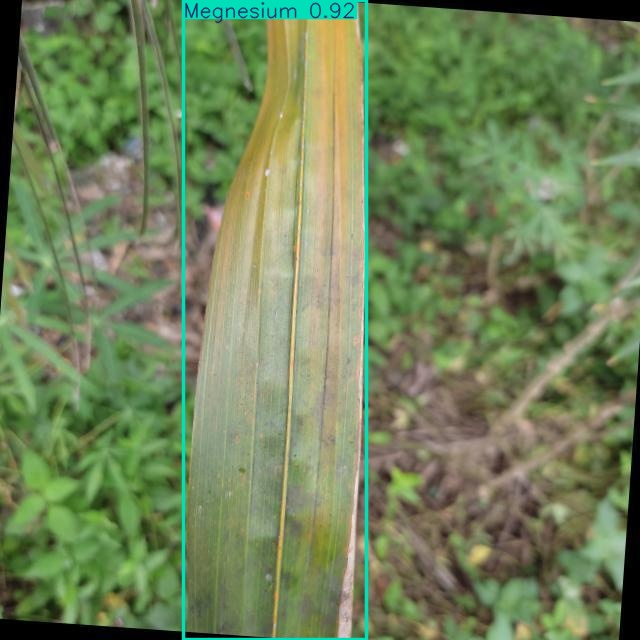Megnesium: (183, 0, 367, 640)
